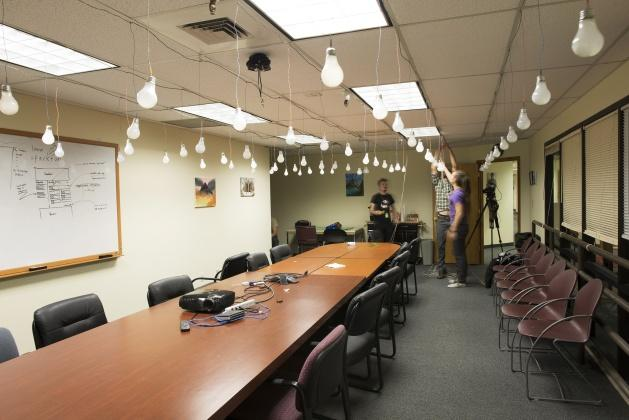Kursi: (235, 324, 351, 419), (343, 282, 386, 395), (369, 267, 398, 359)
Meja: (0, 270, 367, 419)
Whiteboard: (0, 127, 123, 278)
